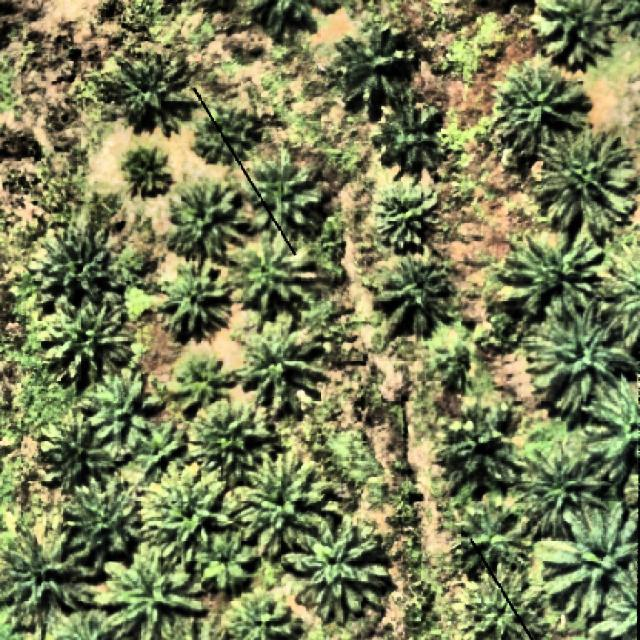Kelapa_Sawit: (522, 296, 636, 415), (534, 497, 640, 614), (282, 512, 390, 626), (492, 50, 596, 166), (234, 447, 338, 558), (536, 120, 636, 234), (94, 540, 208, 640), (1, 523, 101, 637), (511, 435, 614, 540), (139, 458, 236, 566), (496, 232, 606, 323), (233, 311, 324, 417), (39, 292, 132, 392), (434, 400, 526, 494), (99, 51, 196, 137), (36, 410, 132, 492), (232, 228, 320, 316), (29, 226, 112, 317), (59, 477, 139, 571), (334, 24, 417, 114), (192, 400, 280, 483), (459, 562, 552, 640), (243, 148, 325, 234), (169, 176, 249, 262), (456, 491, 530, 580), (370, 90, 448, 172), (379, 251, 453, 337), (86, 371, 162, 454), (160, 256, 234, 338), (169, 350, 248, 412), (376, 178, 442, 252), (195, 524, 258, 594), (194, 105, 264, 166), (132, 419, 186, 479), (124, 143, 173, 194)
